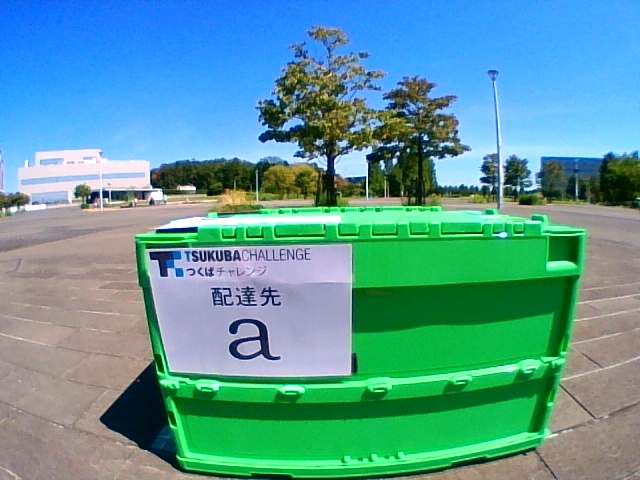green_box: (135, 205, 587, 480)
tag_a: (170, 250, 351, 373)
